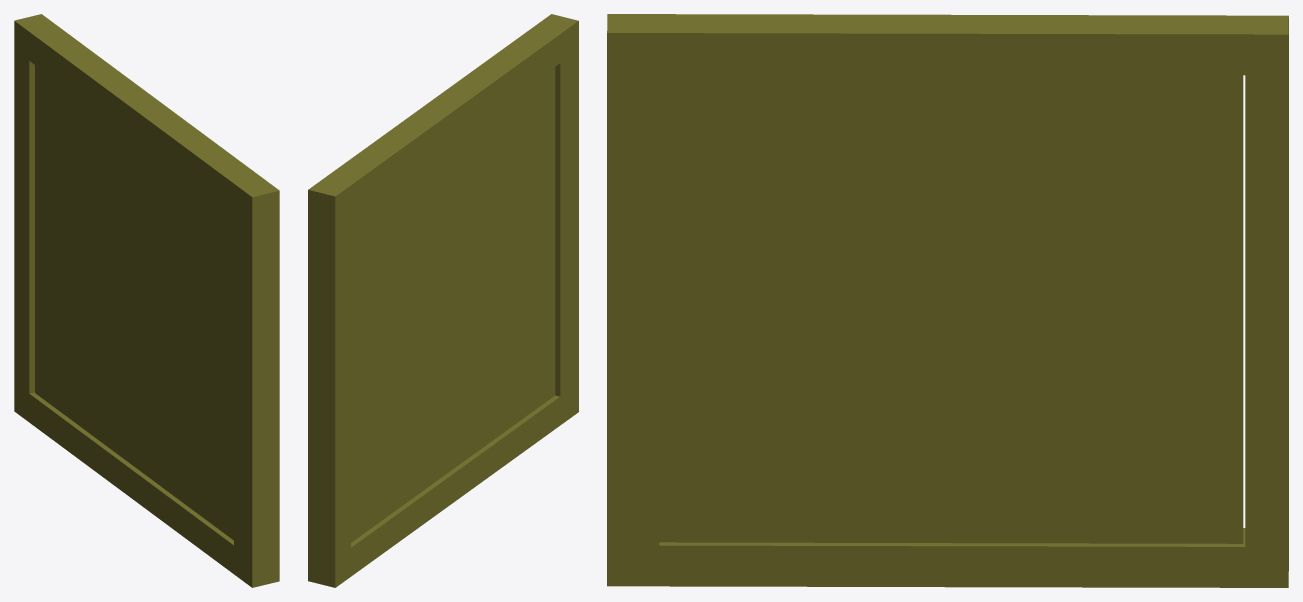
File: Childrens_Room_Window_2.fbx
3 views of the same model, side by side, from view 1: azimuth 30°, elevation 25°; view 2: azimuth 150°, elevation 25°; view 3: azimuth 270°, elevation 25° (orthographic). The views are drawn at different scales.
Visible parts, largest first — view 1: Childrens_Room_Window_2; view 2: Childrens_Room_Window_2; view 3: Childrens_Room_Window_2.
Part boxes in pixels (bbox=[...]): Childrens_Room_Window_2: bbox=[14, 14, 279, 587]; Childrens_Room_Window_2: bbox=[308, 14, 578, 587]; Childrens_Room_Window_2: bbox=[607, 14, 1288, 587].
Bounding box in the file's own units: 13.01 × 163 × 182.
